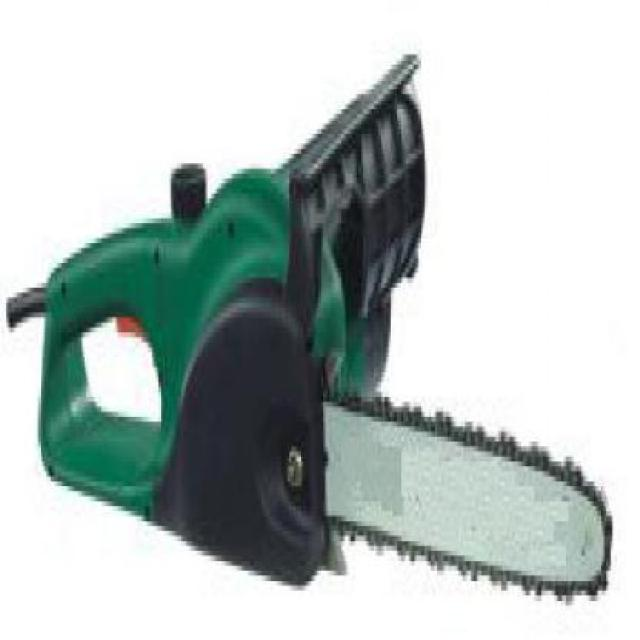Chainsaw: (3, 44, 614, 616)
